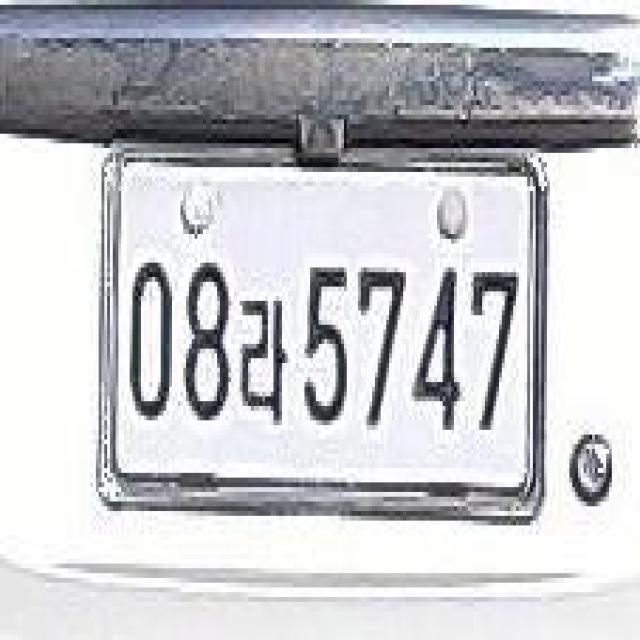illegal_plate: (91, 136, 547, 544)
